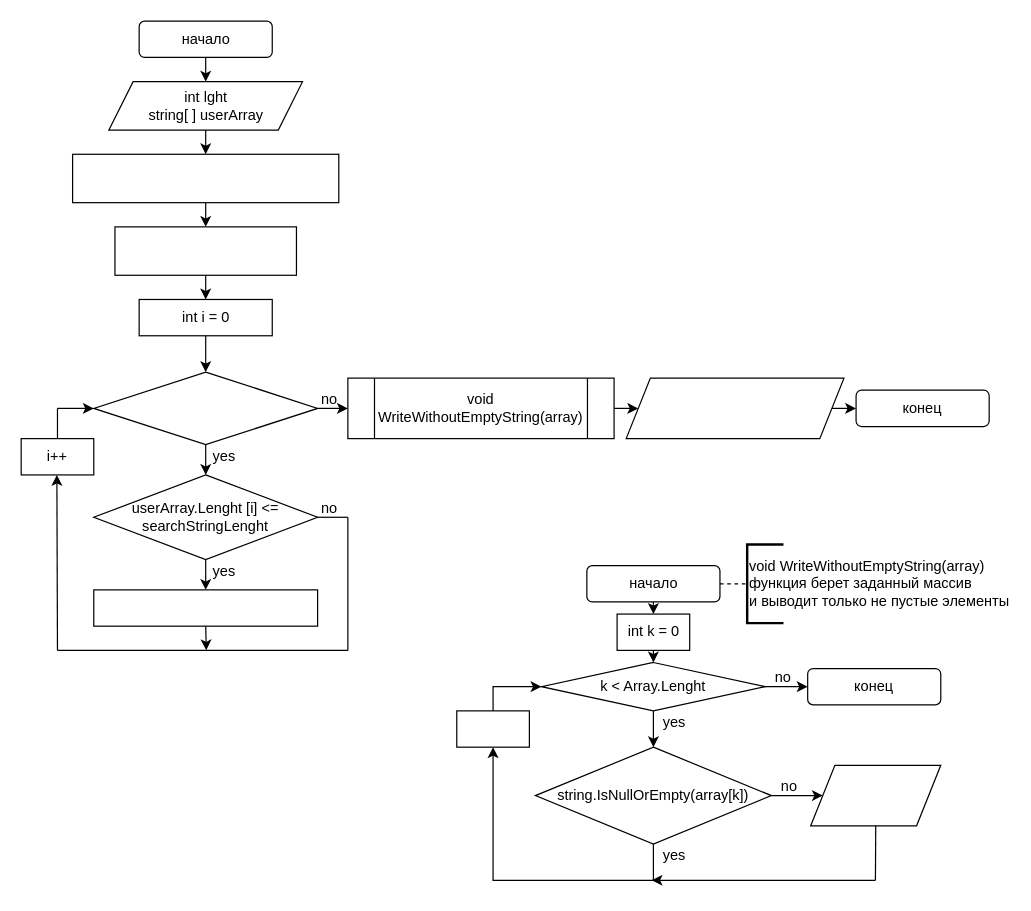
This 1031x911 diagram has some shape labels left out. The centre of each missing label's shape, as x and y in pixels:
"array[k]" belongs at point (875, 795).
"i < userArray.Lenght" belongs at point (205, 408).
"int searchStringLght =3" belongs at point (205, 250).
"k++" belongs at point (492, 728).
"resultArray[i] = userArray[i]" belongs at point (205, 607).
"string[ ] resultArray = new string[lght]" belongs at point (205, 178).
"WriteWithoutEmptyString (resultArray)" belongs at point (734, 408).
